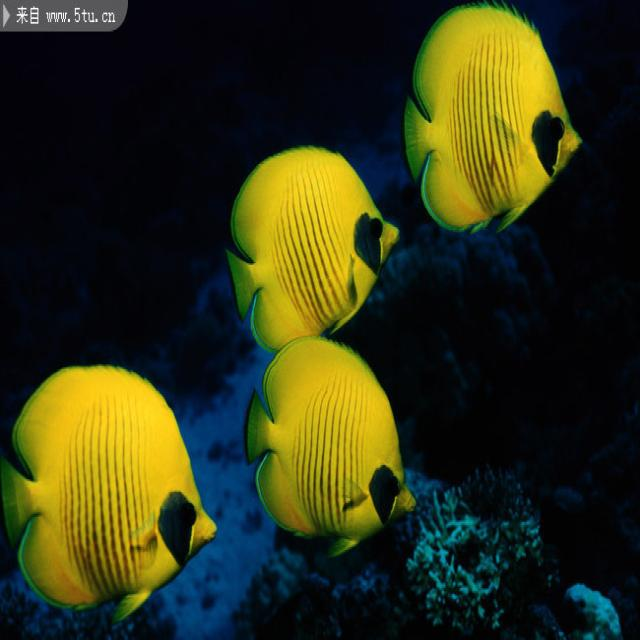ButterflyFish: (0, 360, 219, 628), (403, 1, 584, 234), (244, 333, 416, 559), (223, 137, 398, 345)
